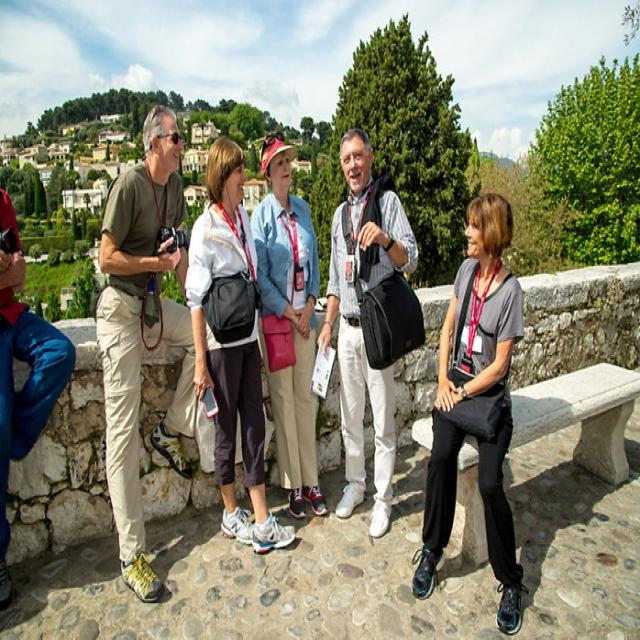body: (92, 99, 215, 604), (407, 188, 533, 637), (307, 123, 429, 543), (182, 129, 299, 559), (0, 132, 81, 616), (246, 128, 334, 526)
